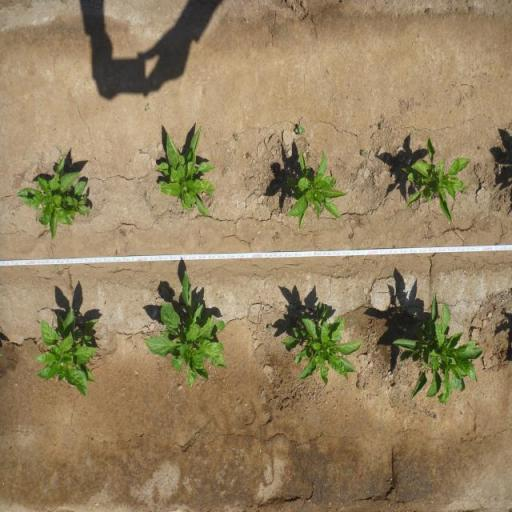plant: (391, 288, 486, 406), (144, 268, 230, 394), (276, 298, 367, 390), (10, 148, 94, 242), (154, 120, 220, 222), (33, 302, 101, 399), (398, 134, 471, 222), (283, 146, 345, 232)
weed: (294, 123, 306, 136), (143, 102, 151, 112), (232, 132, 240, 142), (245, 150, 252, 161), (265, 323, 272, 333), (360, 149, 368, 157), (379, 122, 384, 132)
